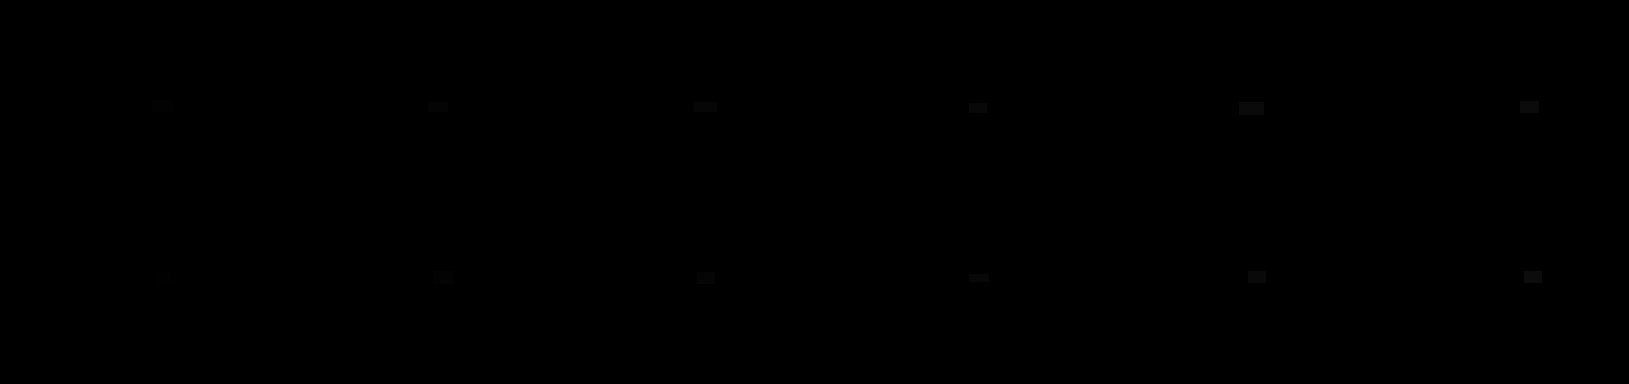light: (1239, 102, 1264, 115), (155, 271, 175, 286), (152, 100, 173, 112), (433, 271, 453, 284), (694, 102, 717, 112), (1248, 271, 1266, 283), (1520, 101, 1539, 113), (697, 272, 715, 284), (1524, 271, 1542, 283), (428, 102, 448, 112), (969, 103, 987, 113), (969, 274, 989, 282)
